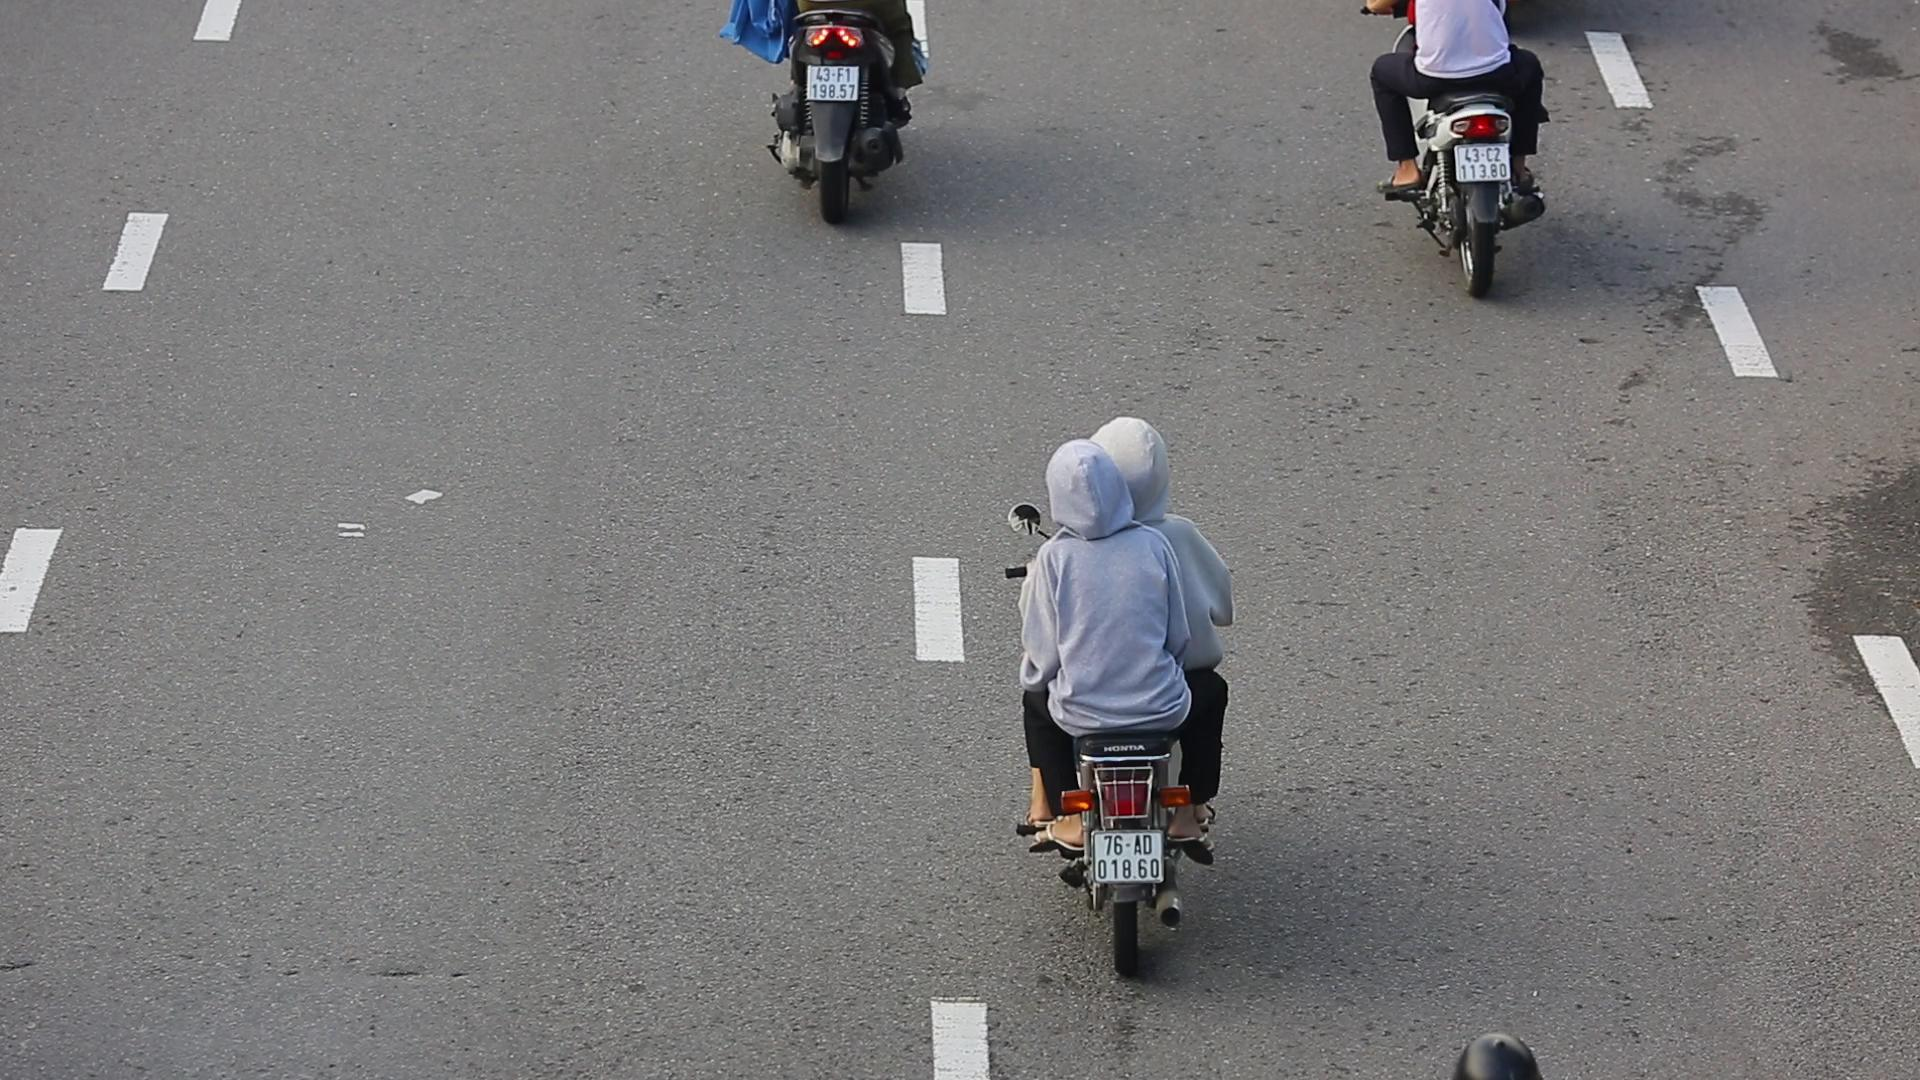motobike: (989, 401, 1250, 986)
